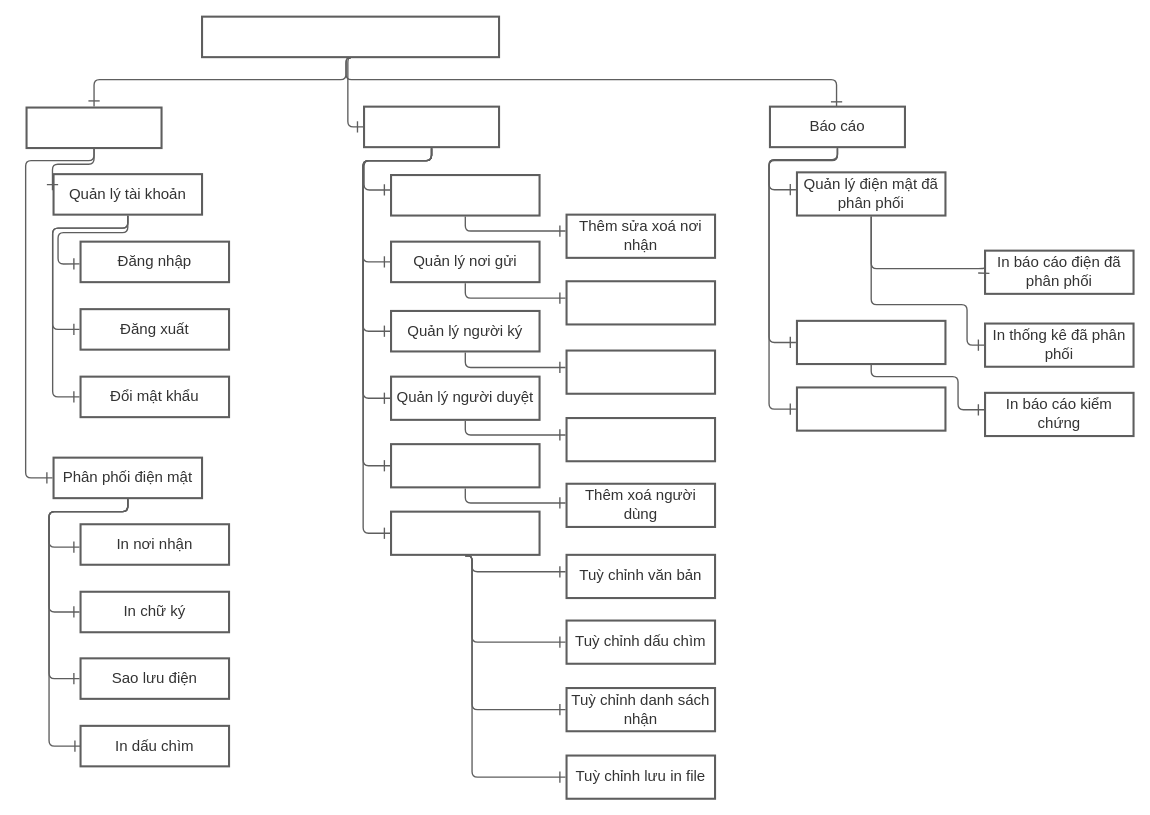
Some shapes in this 1150 by 815 pixel diagram are drawn without their labels. The shapes that lost their labels are listed below. From the top down, each one's centre as x and y in pixels, then its label:
point 350,36: Phần mềm sao lưu và phân phối điện mật
point 93,127: Hệ thống
point 431,126: Thiết lập
point 465,195: Quản lý nơi nhận
point 640,302: Thêm sửa xoá nơi gửi
point 871,342: Kiểm chứng điện
point 640,371: Thêm sửa xoá người ký
point 871,408: Quản lý bì thư
point 640,439: Thêm sửa xoá người duyệt
point 465,465: Quản lý người dùng
point 465,532: Quản lý tham số tuỳ chỉnh
